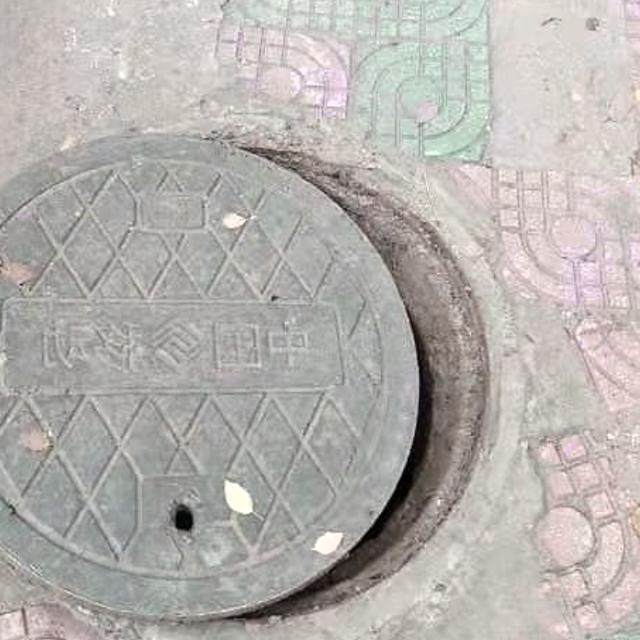uncovered: (0, 97, 507, 640)
